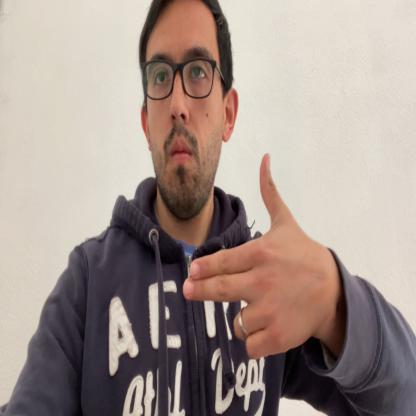H: (182, 152, 326, 358)
